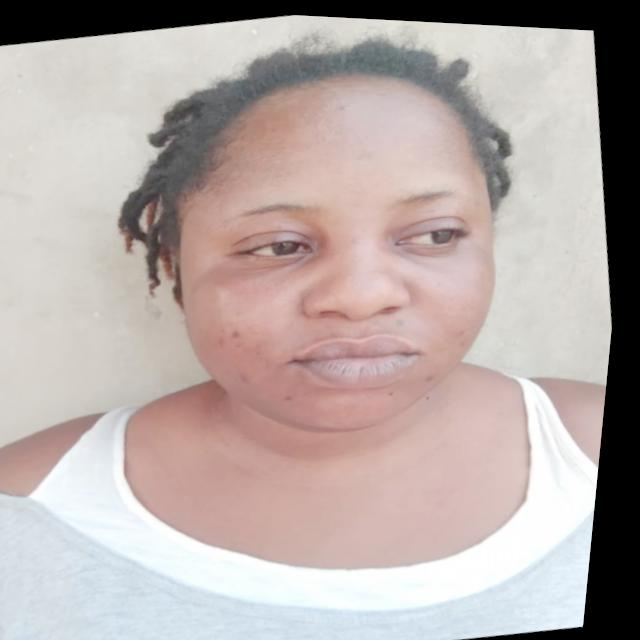sad: (108, 22, 551, 468)
